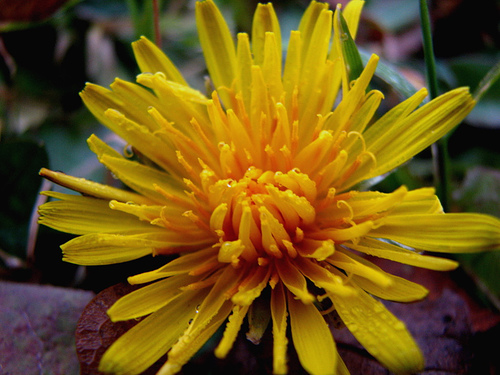dandelion: (31, 3, 492, 365)
